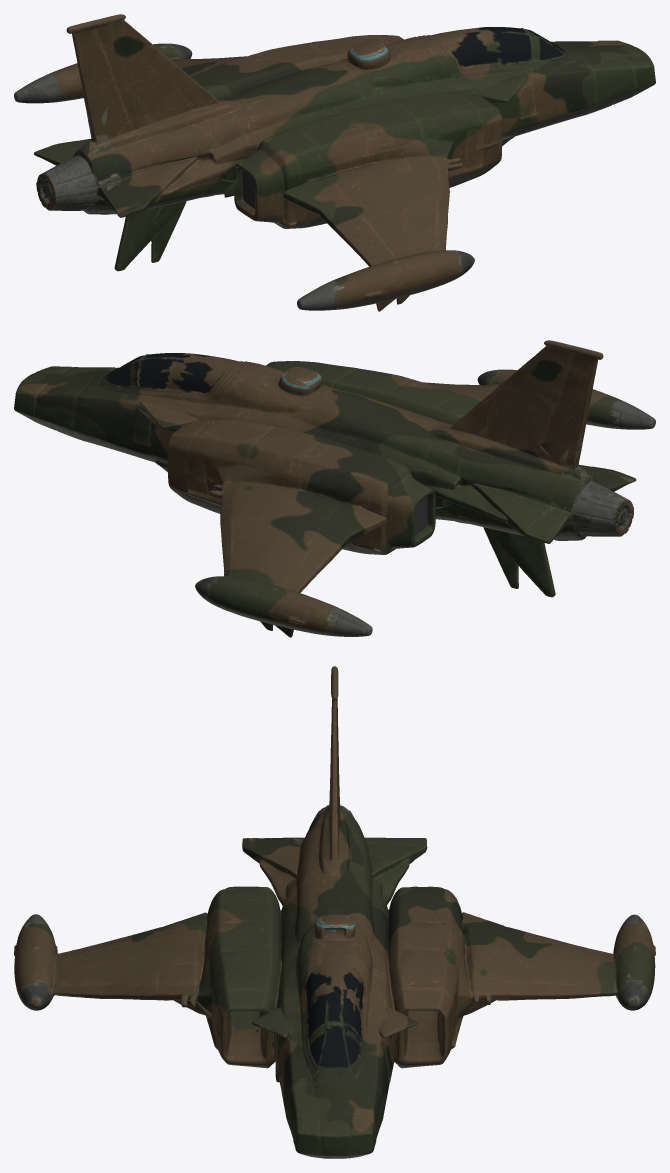
File: fh_hangar_attacker_t4.glb
3 views of the same model, one above another, from view 1: azimuth 30°, elevation 25°; view 2: azimuth 150°, elevation 25°; view 3: azimuth 270°, elevation 25° (orthographic). The views are drawn at different scales.
Visible parts, largest first — view 1: fh_hangar_attacker_t4, flap_r, slat_r; view 2: fh_hangar_attacker_t4, flap_l, slat_l; view 3: fh_hangar_attacker_t4, slat_l, slat_r, flap_r, flap_l.
Part boxes in pixels (bbox=[...]): fh_hangar_attacker_t4: bbox=[14, 14, 655, 311]; flap_r: bbox=[286, 176, 373, 247]; slat_r: bbox=[431, 182, 449, 243]; fh_hangar_attacker_t4: bbox=[14, 340, 655, 637]; flap_l: bbox=[297, 503, 383, 573]; slat_l: bbox=[220, 508, 238, 569]; fh_hangar_attacker_t4: bbox=[14, 666, 655, 1158]; slat_l: bbox=[517, 976, 598, 999]; slat_r: bbox=[71, 976, 152, 999]; flap_r: bbox=[101, 913, 203, 948]; flap_l: bbox=[466, 913, 568, 948].
Size of the model in its own units: 1 by 0.4087 by 0.878.
3 materials, 2 textured.
